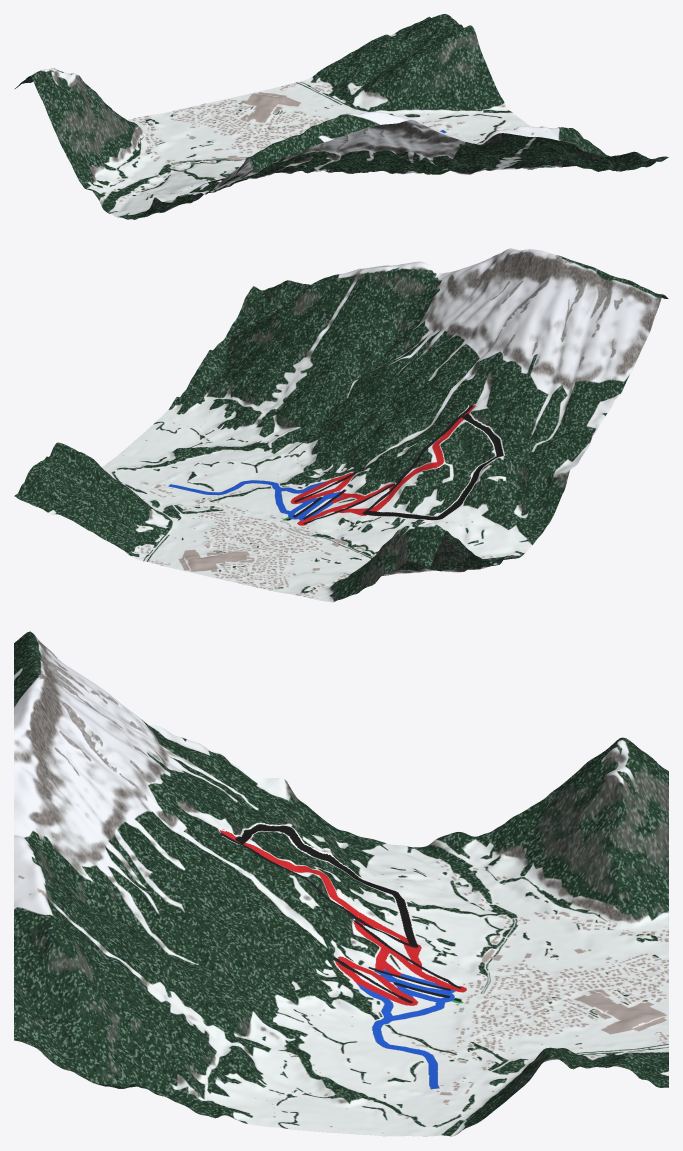
3 renders of one model, top to bottom at view 1: azimuth 30°, elevation 25°; view 2: azimuth 150°, elevation 25°; view 3: azimuth 270°, elevation 25°, orthographic. The views are drawn at different scales.
Visible parts, largest first — view 1: E3_Skizentrum_Steinach.glb; view 2: E3_Skizentrum_Steinach.glb; view 3: E3_Skizentrum_Steinach.glb.
Boxes of the visible parts, box(x1,y1,x2,y2) form: E3_Skizentrum_Steinach.glb: box(15, 14, 668, 219); E3_Skizentrum_Steinach.glb: box(14, 248, 668, 602); E3_Skizentrum_Steinach.glb: box(14, 631, 668, 1136).
Bounding box in the file's own units: 2952 × 1247 × 2952.
1 material, 1 textured.
